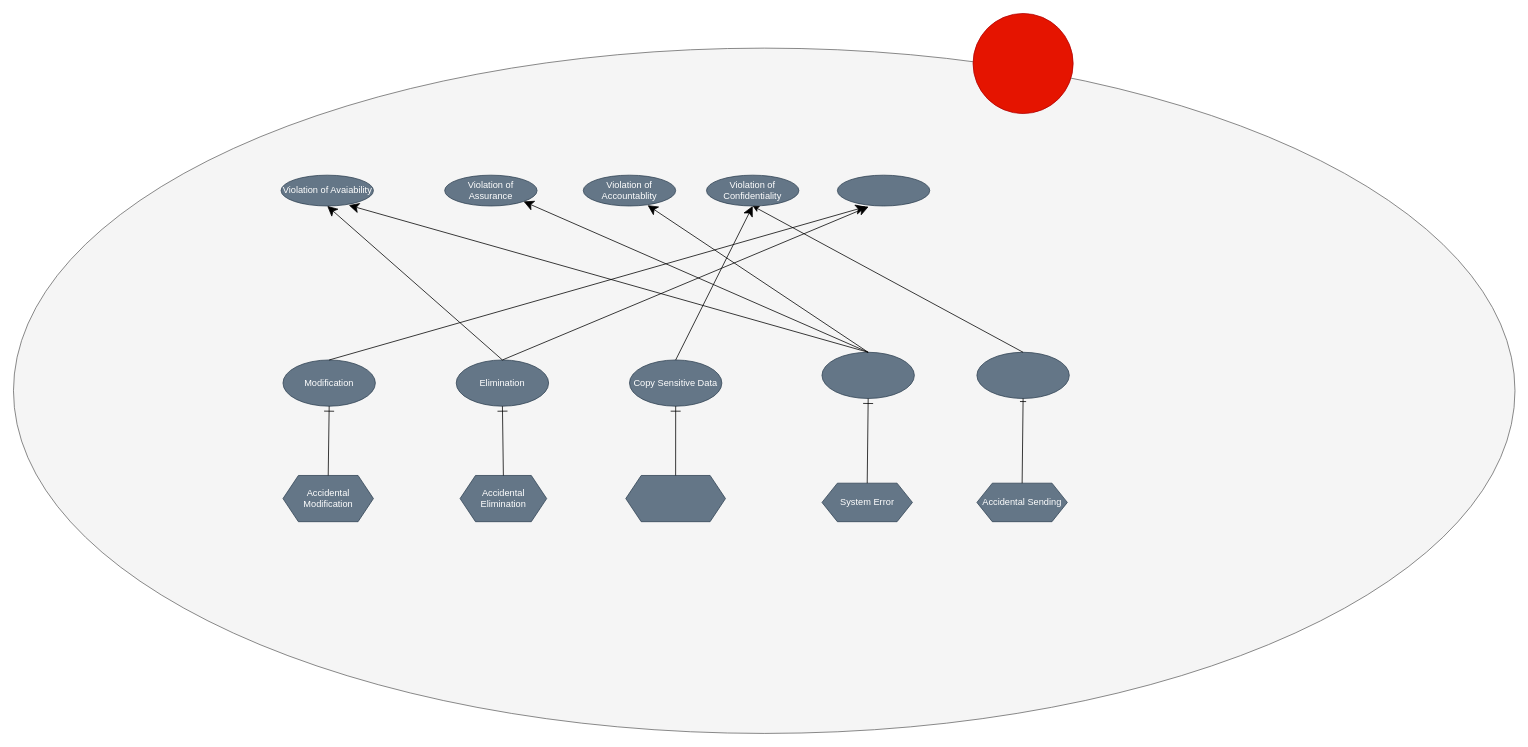
Some shapes in this 1528 by 747 pixel diagram are drawn without their labels. The centre of each missing label's shape, as x and y in pixels:
"Accidental Download" belongs at point 675,498.
"Clumsy Ticket Reseller" belongs at point 1022,63.
"Error on generate ticket" belongs at point 867,375.
"Error on sending" belongs at point 1022,375.
"Violation of Integrity" belongs at point 883,190.
